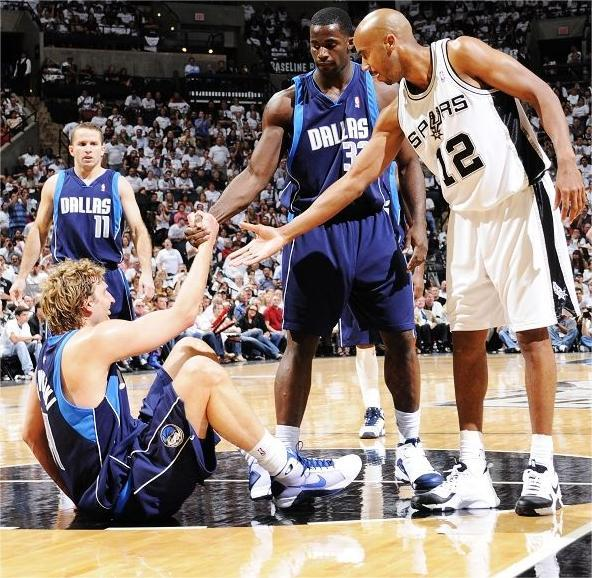bending: (311, 1, 592, 517), (6, 241, 368, 520)
up: (203, 8, 444, 495), (1, 119, 161, 320)
